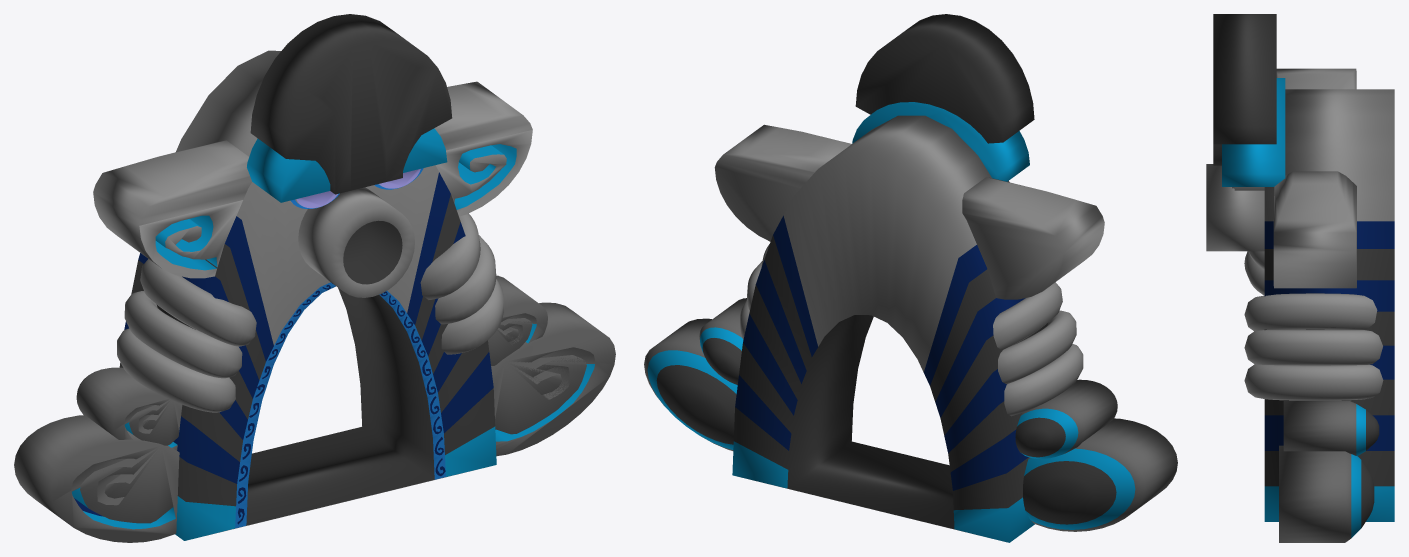
Rendered from totem-without-gate.fbx.
The picture shows the model from 3 angles, left to right: view 1: azimuth 30°, elevation 25°; view 2: azimuth 150°, elevation 25°; view 3: azimuth 270°, elevation 25°; orthographic projection. The views are drawn at different scales.
Visible parts, largest first — view 1: Sphere; view 2: Sphere; view 3: Sphere.
Part boxes in pixels (x1,y1,x2,y2): Sphere: (14,14,615,542); Sphere: (644,14,1177,542); Sphere: (1206,14,1394,542).
Bounding box in the file's own units: 840 × 685 × 270.
